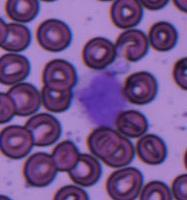M: (78, 68, 128, 127)
